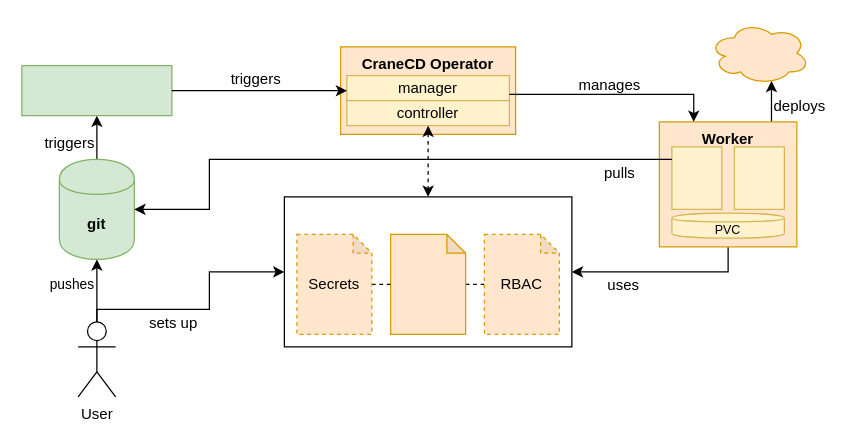
This 848x445 diagram has some shape labels left out. Each missing label, with the box of its shape:
CI pipeline: (21, 64, 172, 116)
Configuration: (283, 196, 572, 347)
CRD: (389, 233, 466, 334)
init: (671, 146, 722, 209)
tool (e.g. helm): (733, 146, 784, 209)
